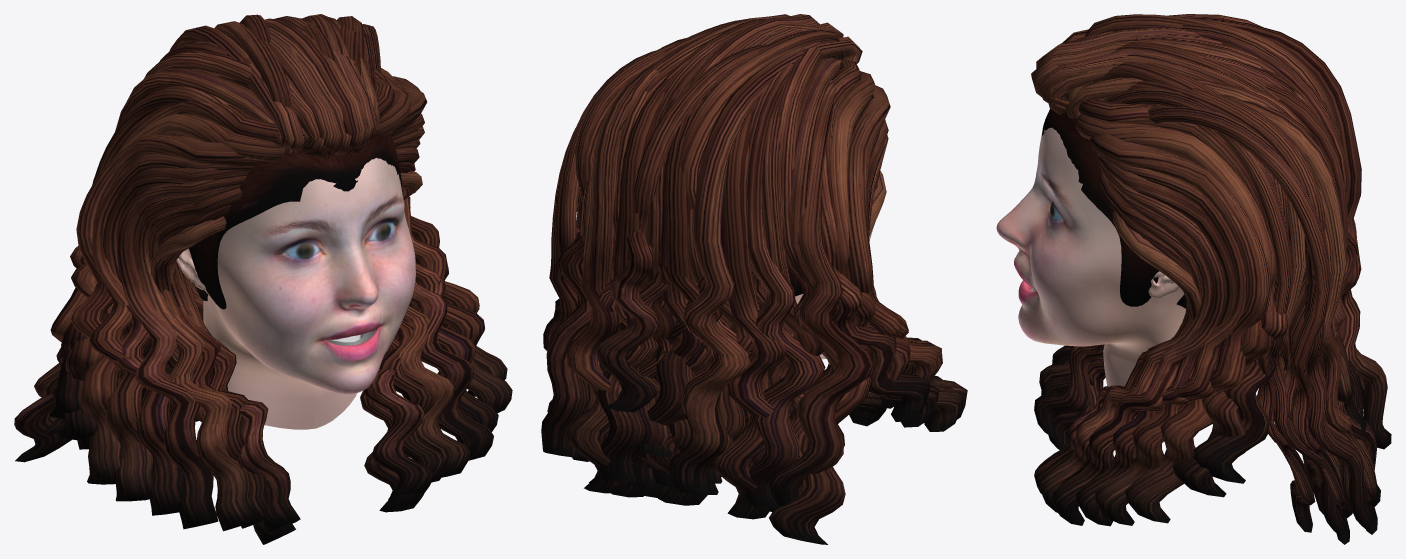
The model's file is small_aah.obj.
3 views of the same model, side by side, from view 1: azimuth 30°, elevation 25°; view 2: azimuth 150°, elevation 25°; view 3: azimuth 270°, elevation 25° (orthographic). The views are drawn at different scales.
Visible parts, largest first — view 1: small_aah; view 2: small_aah; view 3: small_aah.
Part boxes in pixels (<box>): small_aah: <box>14,14,512,544</box>; small_aah: <box>541,14,967,544</box>; small_aah: <box>996,14,1391,544</box>.
Bounding box in the file's own units: 365 × 387 × 298.
